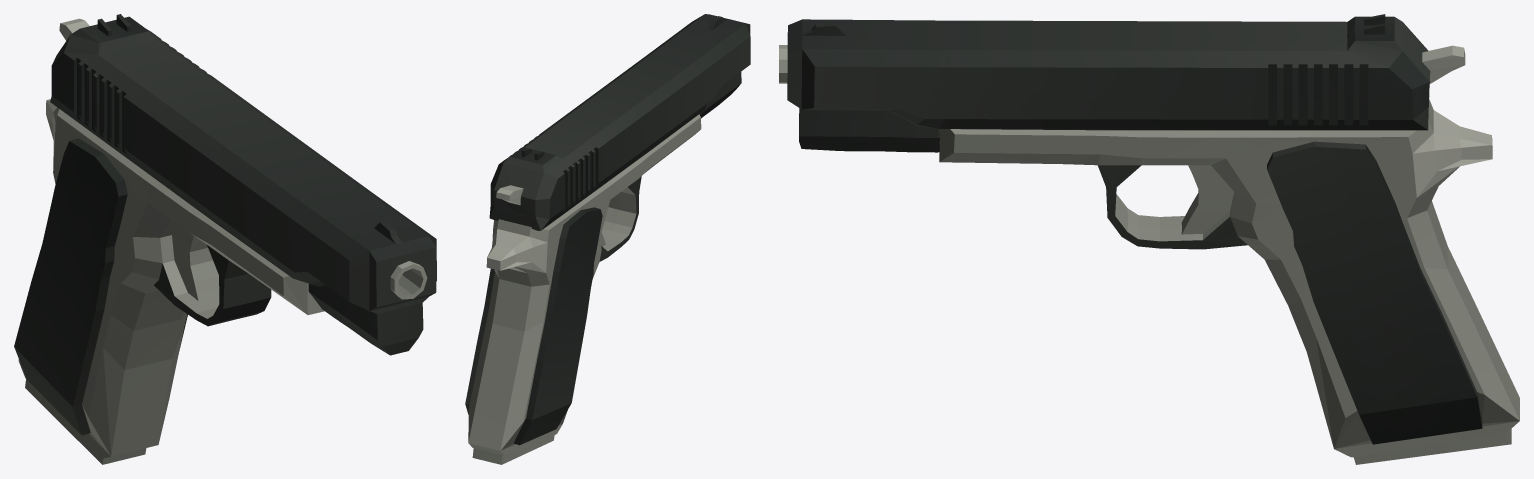
Rendered from Gun.fbx.
The picture shows the model from 3 angles, left to right: view 1: azimuth 30°, elevation 25°; view 2: azimuth 150°, elevation 25°; view 3: azimuth 270°, elevation 25°; orthographic projection. The views are drawn at different scales.
Visible parts, largest first — view 1: Gun; view 2: Gun; view 3: Gun.
Boxes of the visible parts, x1,y1,x2,y2 form: Gun: [14, 14, 436, 464]; Gun: [465, 14, 750, 464]; Gun: [779, 14, 1519, 464].
Bounding box in the file's own units: 3.84 × 16.01 × 24.72.
